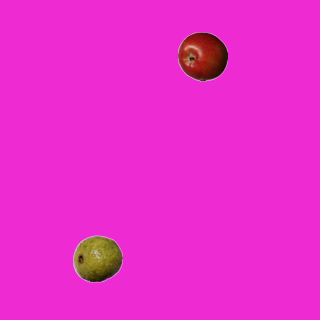Apple Braeburn: (177, 31, 227, 81)
Guava: (72, 233, 122, 283)
